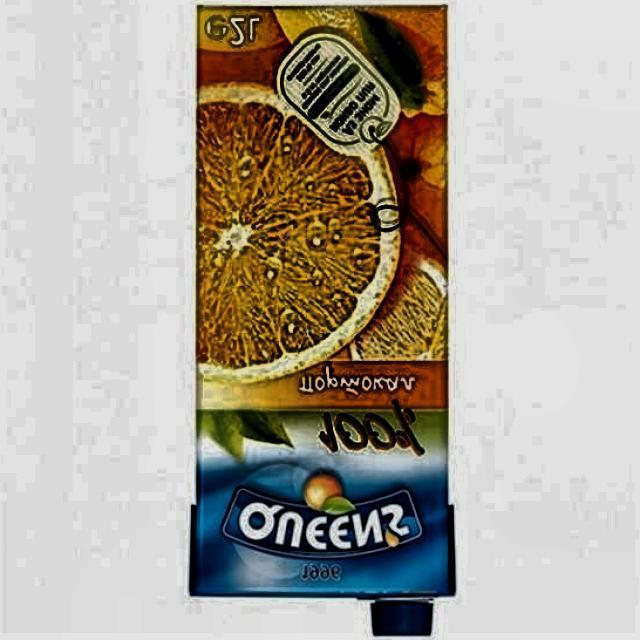cardboard: (188, 4, 454, 630)
